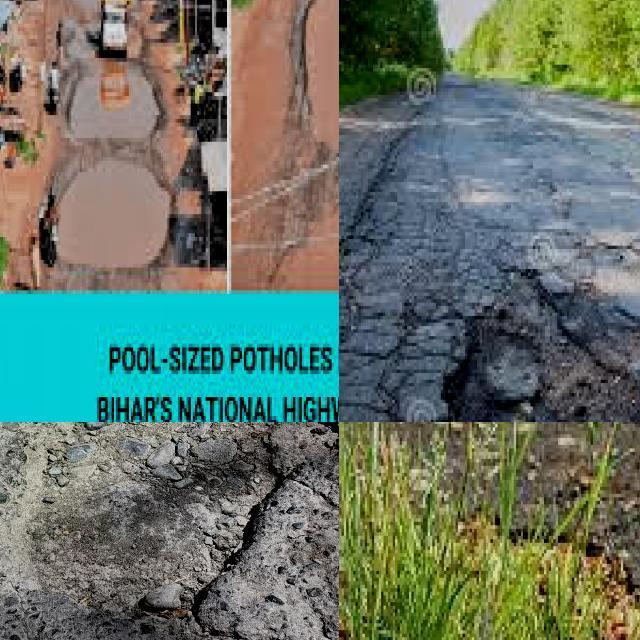Pothole: (12, 422, 339, 618), (339, 501, 640, 640), (41, 62, 172, 271), (468, 279, 640, 422)
